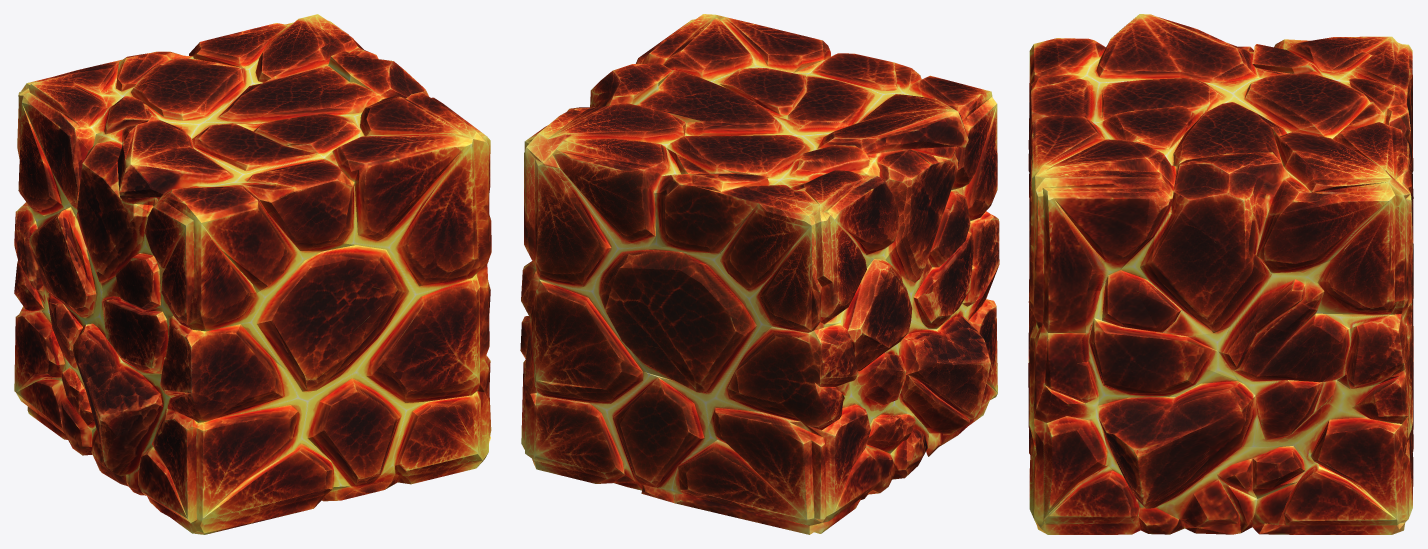
The model's file is player.fbx.
3 views of the same model, side by side, from view 1: azimuth 30°, elevation 25°; view 2: azimuth 150°, elevation 25°; view 3: azimuth 270°, elevation 25° (orthographic). The views are drawn at different scales.
Visible parts, largest first — view 1: output_unwrapped; view 2: output_unwrapped; view 3: output_unwrapped.
Boxes of the visible parts, left/top/right/bottom form: output_unwrapped: left=14, top=14, right=491, bottom=534; output_unwrapped: left=520, top=14, right=999, bottom=534; output_unwrapped: left=1028, top=14, right=1413, bottom=534.
Bounding box in the file's own units: 0.2855 × 0.25 × 0.2397.
Materials: 1 (1 with a texture image).
